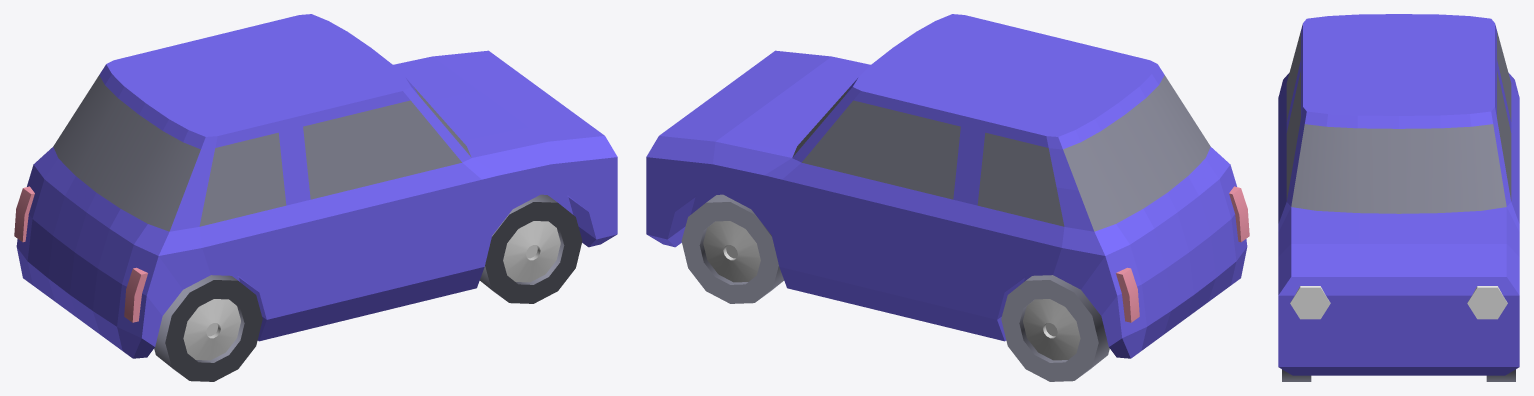
Rendered from CityBlue.gltf.
3 renders of one model, left to right at view 1: azimuth 30°, elevation 25°; view 2: azimuth 150°, elevation 25°; view 3: azimuth 270°, elevation 25°, orthographic. The views are drawn at different scales.
Visible parts, largest first — view 1: Cabin, Windows/Wheels, Wheels, Disk, Red lights; view 2: Cabin, Windows/Wheels, Wheels, Disk, Red lights; view 3: Cabin, Windows/Wheels, Front lights, Wheels.
Boxes of the visible parts, left/top/right/bottom form: Cabin: left=16, top=14, right=617, bottom=358; Windows/Wheels: left=53, top=75, right=471, bottom=231; Wheels: left=154, top=194, right=582, bottom=381; Disk: left=183, top=221, right=560, bottom=360; Red lights: left=14, top=186, right=147, bottom=322; Cabin: left=646, top=14, right=1247, bottom=358; Windows/Wheels: left=792, top=75, right=1210, bottom=231; Wheels: left=681, top=194, right=1109, bottom=381; Disk: left=703, top=221, right=1080, bottom=360; Red lights: left=1116, top=186, right=1249, bottom=322; Cabin: left=1278, top=14, right=1519, bottom=375; Windows/Wheels: left=1286, top=31, right=1511, bottom=213; Front lights: left=1290, top=286, right=1507, bottom=319; Wheels: left=1282, top=369, right=1515, bottom=381.
Size of the model in its own units: 0.033 by 0.0153 by 0.0154.
